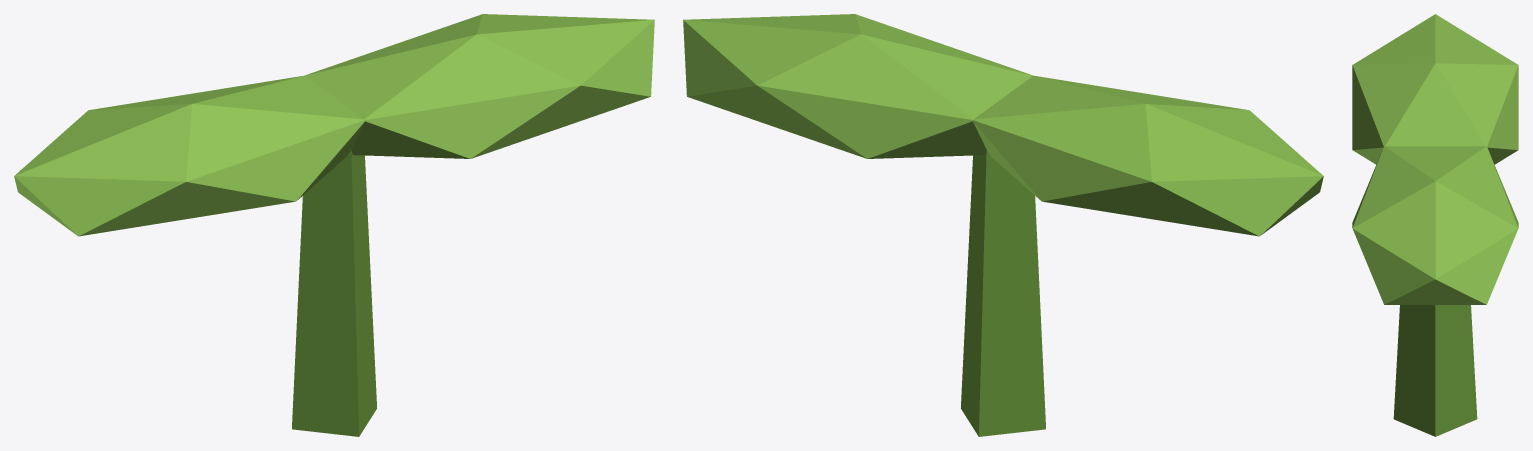
Rendered from crop_sprout.glb.
3 renders of one model, left to right at view 1: azimuth 30°, elevation 25°; view 2: azimuth 150°, elevation 25°; view 3: azimuth 270°, elevation 25°, orthographic. The views are drawn at different scales.
Visible parts, largest first — view 1: crop_sprout; view 2: crop_sprout; view 3: crop_sprout.
Part boxes in pixels (x1,y1,x2,y2): crop_sprout: (14,14,654,436); crop_sprout: (683,14,1323,436); crop_sprout: (1352,14,1518,436).
Bounding box in the file's own units: 0.2252 × 0.1175 × 0.0595.
